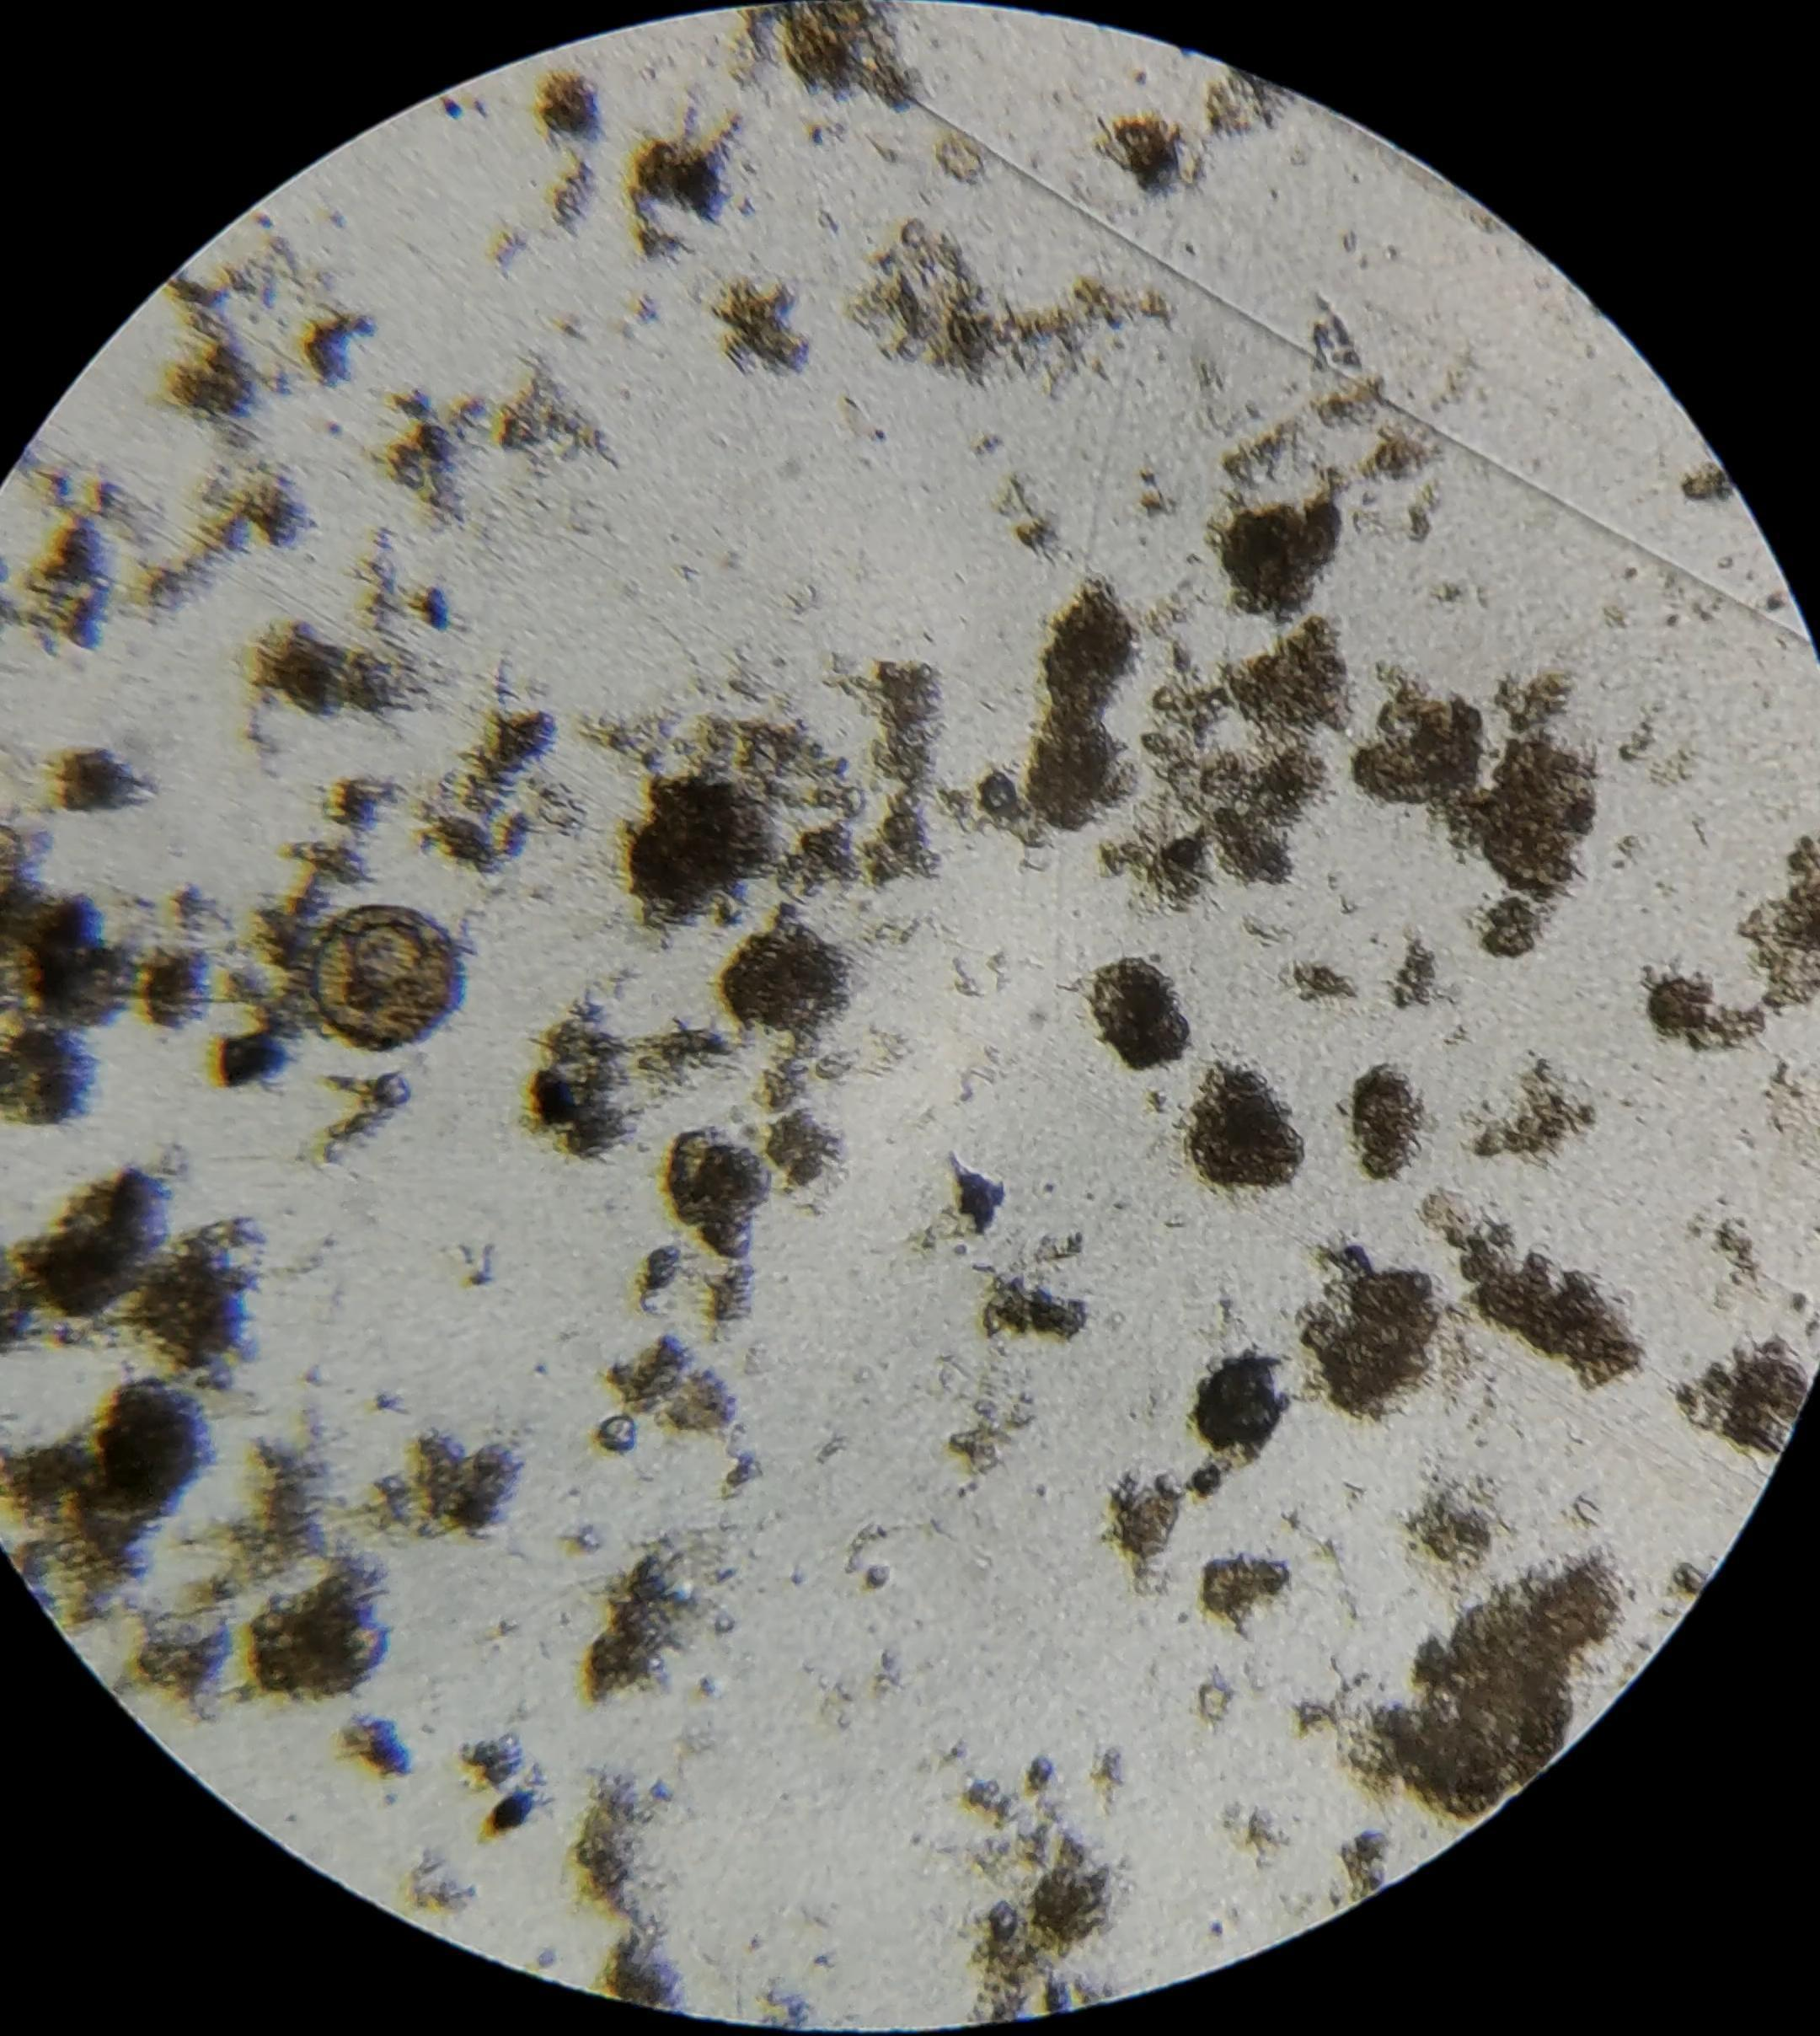Arcella: (311, 906, 457, 1047)
